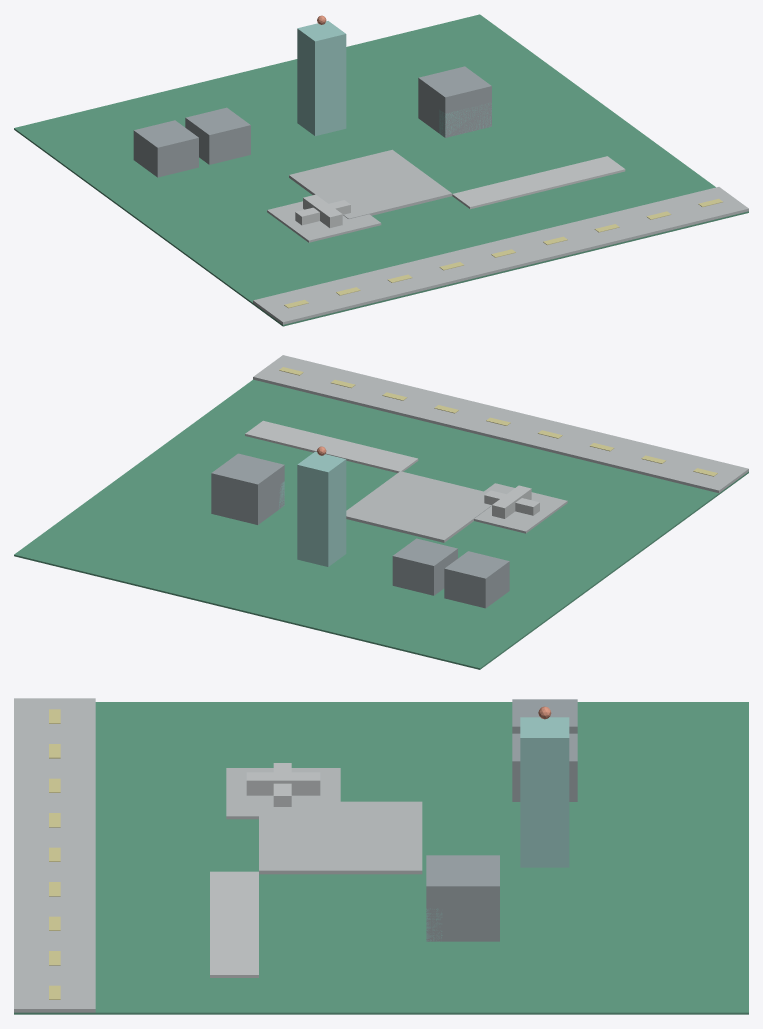
Rendered from stage_07.glb.
3 views of the same model, one above another, from view 1: azimuth 30°, elevation 25°; view 2: azimuth 150°, elevation 25°; view 3: azimuth 270°, elevation 25° (orthographic). The views are drawn at different scales.
Parts seen in each view (by area): view 1: geometry_0; view 2: geometry_0; view 3: geometry_0.
Boxes of the visible parts, x1,y1,x2,y2 form: geometry_0: (14,14,748,326); geometry_0: (14,355,748,669); geometry_0: (14,698,748,1014).
Size of the model in its own units: 9 by 2.06 by 9.
